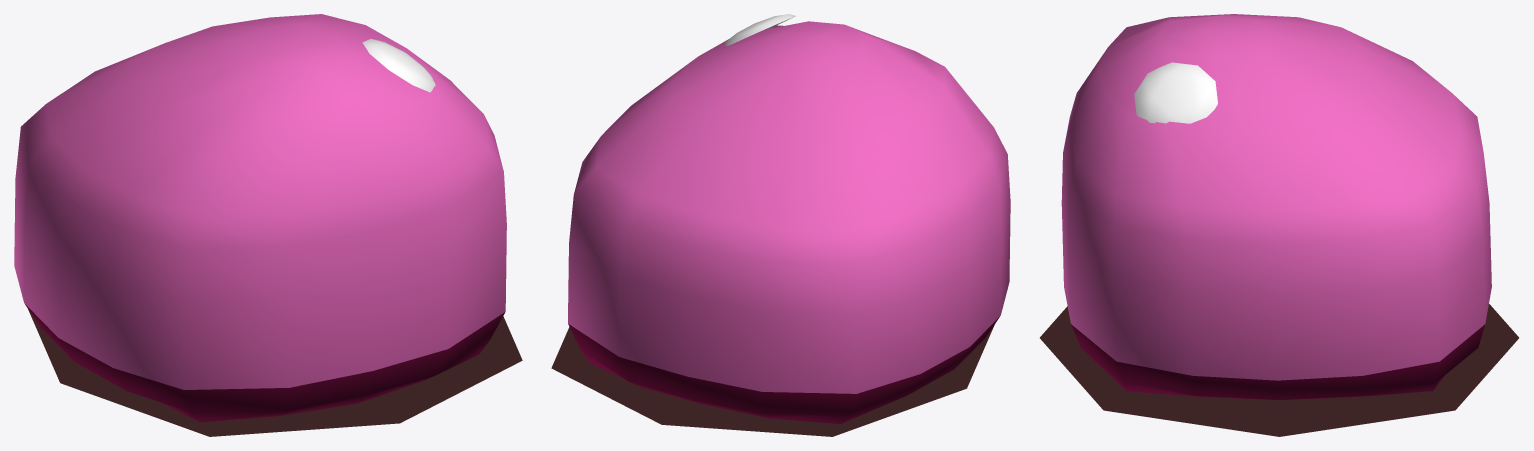
The model's file is Oozium238Mesh.PinkCosmos.glb.
The picture shows the model from 3 angles, left to right: view 1: azimuth 30°, elevation 25°; view 2: azimuth 150°, elevation 25°; view 3: azimuth 270°, elevation 25°; orthographic projection. The views are drawn at different scales.
Visible parts, largest first — view 1: Oozium238Mesh.PinkCosmos; view 2: Oozium238Mesh.PinkCosmos; view 3: Oozium238Mesh.PinkCosmos.
Part boxes in pixels (bbox=[...]): Oozium238Mesh.PinkCosmos: bbox=[14, 14, 522, 436]; Oozium238Mesh.PinkCosmos: bbox=[551, 14, 1010, 436]; Oozium238Mesh.PinkCosmos: bbox=[1040, 14, 1518, 436].
Bounding box in the file's own units: 2.04 × 1.44 × 2.07.
Materials: 1 (1 with a texture image).
